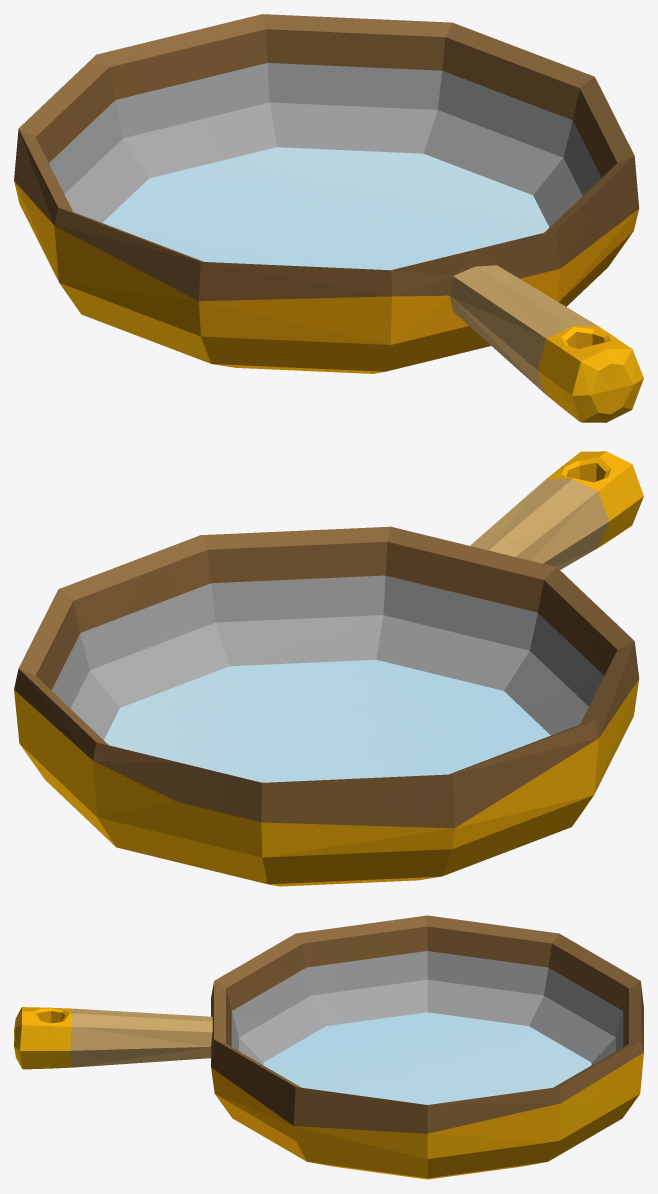
File: pan.obj
3 views of the same model, one above another, from view 1: azimuth 30°, elevation 25°; view 2: azimuth 150°, elevation 25°; view 3: azimuth 270°, elevation 25° (orthographic). The views are drawn at different scales.
Parts seen in each view (by area): view 1: pan_Material; view 2: pan_Material; view 3: pan_Material.
Boxes of the visible parts, <box> form: pan_Material: <box>14,14,643,422</box>; pan_Material: <box>14,451,643,886</box>; pan_Material: <box>14,915,643,1179</box>.
Bounding box in the file's own units: 0.4336 × 0.1057 × 0.6001.
